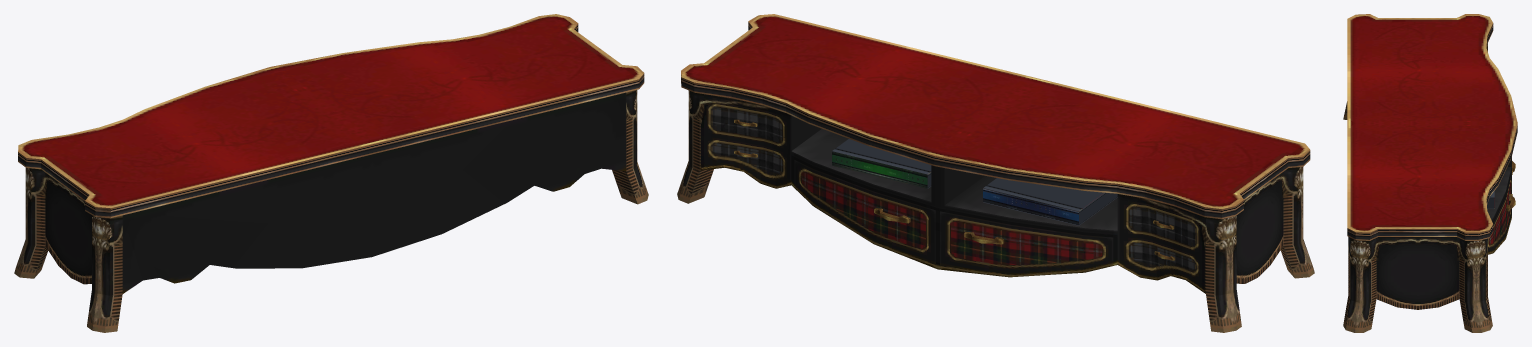
The model's file is furni_0200328_01.FBX.
3 views of the same model, side by side, from view 1: azimuth 30°, elevation 25°; view 2: azimuth 150°, elevation 25°; view 3: azimuth 270°, elevation 25° (orthographic). The views are drawn at different scales.
Visible parts, largest first — view 1: furni_0200328; view 2: furni_0200328; view 3: furni_0200328.
Boxes of the visible parts, bbox=[...] form: furni_0200328: bbox=[14, 14, 648, 332]; furni_0200328: bbox=[677, 14, 1314, 332]; furni_0200328: bbox=[1343, 14, 1517, 332].
Bounding box in the file's own units: 238 × 50.04 × 79.73.
1 material, 1 textured.
